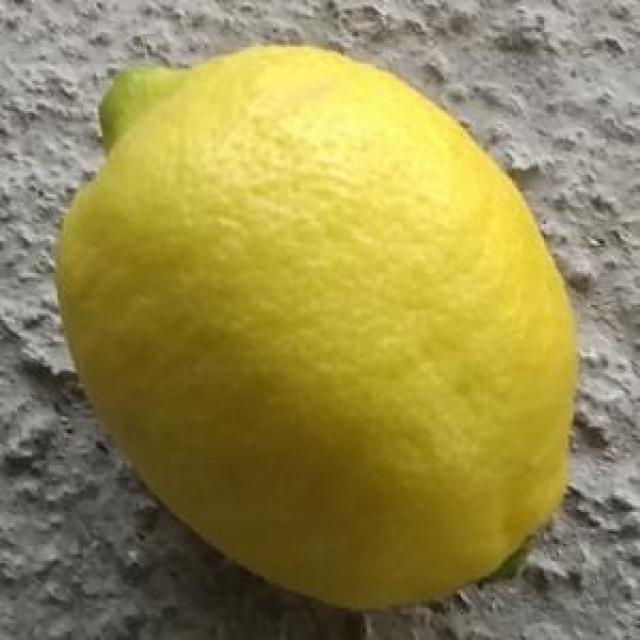lemon: (61, 42, 584, 614)
